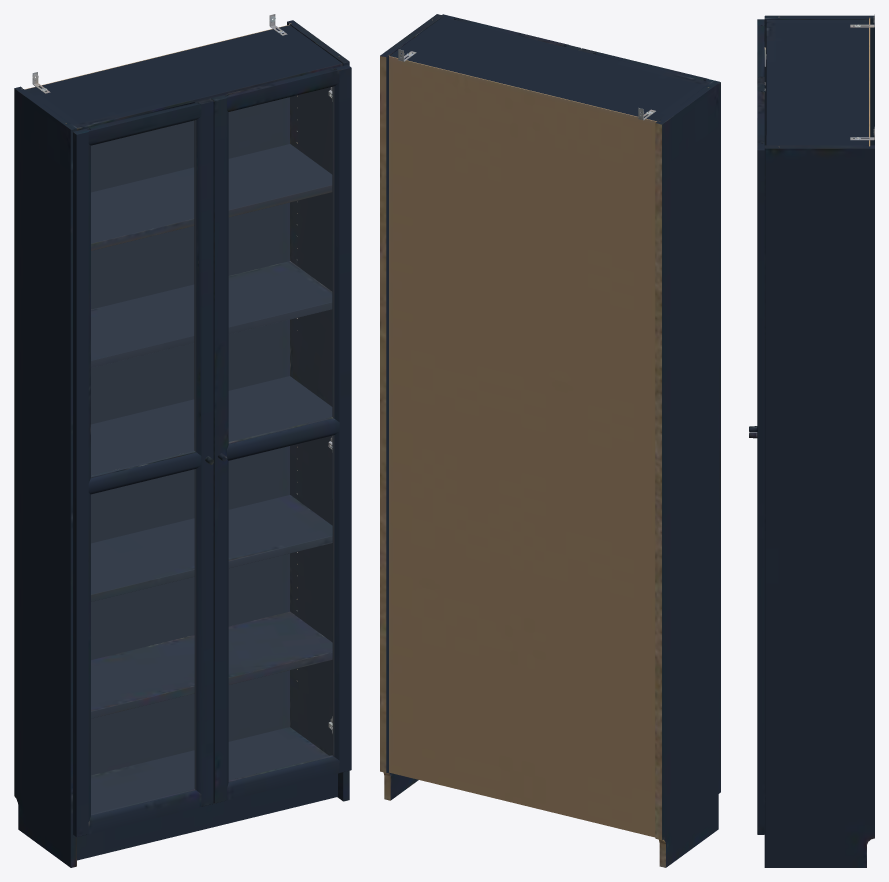
The picture shows the model from 3 angles, left to right: view 1: azimuth 30°, elevation 25°; view 2: azimuth 150°, elevation 25°; view 3: azimuth 270°, elevation 25°; orthographic projection. The views are drawn at different scales.
Parts seen in each view (by area): view 1: Mesh_0; view 2: Mesh_0; view 3: Mesh_0.
Part boxes in pixels (left/top/right/bottom): Mesh_0: left=14, top=14, right=351, bottom=867; Mesh_0: left=380, top=14, right=720, bottom=867; Mesh_0: left=749, top=14, right=874, bottom=867.
Size of the model in its own units: 0.7979 by 2.05 by 0.3203.
Materials: 2 (1 with a texture image).
